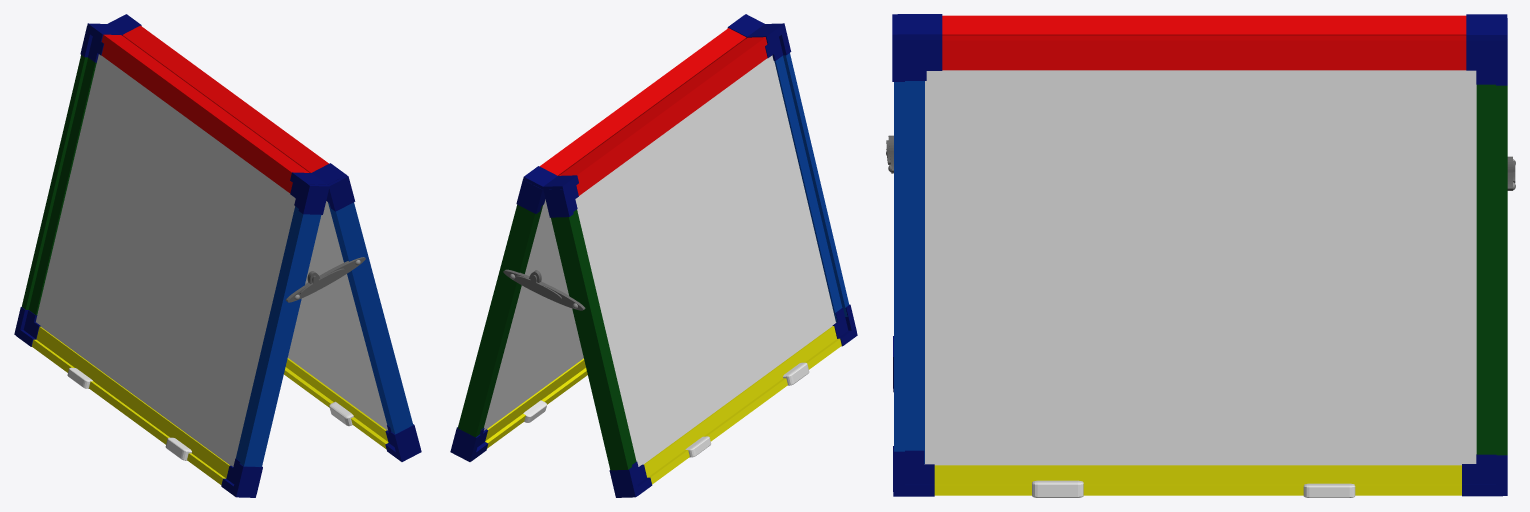
The model's file is magnetboard(joint)ER.fbx.
3 renders of one model, left to right at view 1: azimuth 30°, elevation 25°; view 2: azimuth 150°, elevation 25°; view 3: azimuth 270°, elevation 25°, orthographic. The views are drawn at different scales.
Visible parts, largest first — view 1: Cube, Cube.021, Cube.002, Cube.001, Cube.019, Cube.008, Cube.020, Cube.005, Cube.013, Cube.004, Cube.017, Cube.007 (+4 smaller); view 2: Cube, Cube.021, Cube.005, Cube.001, Cube.016, Cube.008, Cube.002, Cube.020, Cube.013, Cube.003, Cube.018, Cube.006 (+5 smaller); view 3: Cube.021, Cube.020, Cube.013, Cube.016, Cube.019, Cube.001, Cube.017, Cube.018, Cube.014, Cube.015, Cube.004, Cube.012 (+2 smaller).
Boxes of the visible parts, box(x1,y1,x2,y2) form: Cube: box(36, 54, 295, 466); Cube.021: box(288, 201, 387, 430); Cube.002: box(235, 206, 321, 466); Cube.001: box(101, 34, 309, 193); Cube.019: box(328, 202, 413, 434); Cube.008: box(31, 326, 229, 485); Cube.020: box(122, 25, 328, 172); Cube.005: box(21, 55, 96, 315); Cube.013: box(284, 358, 388, 449); Cube.004: box(290, 172, 329, 214); Cube.017: box(311, 163, 355, 211); Cube.007: box(221, 458, 262, 497); Cube: box(575, 55, 836, 466); Cube.021: box(484, 199, 583, 430); Cube.005: box(551, 209, 636, 470); Cube.001: box(559, 37, 767, 195); Cube.016: box(458, 204, 542, 437); Cube.008: box(644, 326, 841, 484); Cube.002: box(774, 53, 849, 322); Cube.020: box(540, 28, 746, 175); Cube.013: box(485, 358, 587, 448); Cube.003: box(543, 175, 578, 217); Cube.018: box(516, 166, 557, 213); Cube.006: box(609, 461, 652, 497); Cube.021: box(924, 70, 1476, 465); Cube.020: box(942, 35, 1466, 70); Cube.013: box(934, 465, 1461, 495); Cube.016: box(1476, 84, 1507, 455); Cube.019: box(894, 81, 924, 463); Cube.001: box(942, 15, 1466, 35); Cube.017: box(892, 34, 942, 81); Cube.018: box(1466, 35, 1507, 85); Cube.014: box(893, 446, 934, 496); Cube.015: box(1462, 454, 1507, 496); Cube.004: box(892, 14, 942, 34); Cube.012: box(1032, 480, 1083, 497).
Size of the model in its own units: 204 by 305 by 419.
